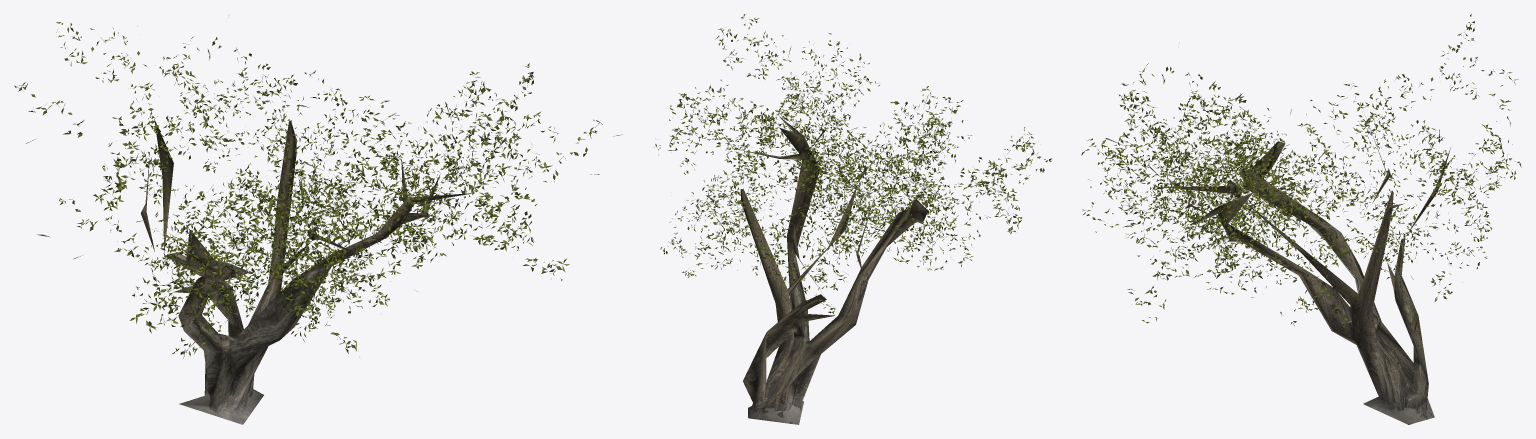
File: tree_far.glb
3 views of the same model, side by side, from view 1: azimuth 30°, elevation 25°; view 2: azimuth 150°, elevation 25°; view 3: azimuth 270°, elevation 25° (orthographic). The views are drawn at different scales.
Visible parts, largest first — view 1: island_tree_02_LOD0; view 2: island_tree_02_LOD0; view 3: island_tree_02_LOD0.
Part boxes in pixels (box(x1,y1,x2,y2)): island_tree_02_LOD0: box(14, 15, 622, 424); island_tree_02_LOD0: box(654, 14, 1051, 424); island_tree_02_LOD0: box(1081, 14, 1521, 424).
Size of the model in its own units: 4.21 by 3.39 by 4.01.
Materials: 3 (3 with a texture image).
